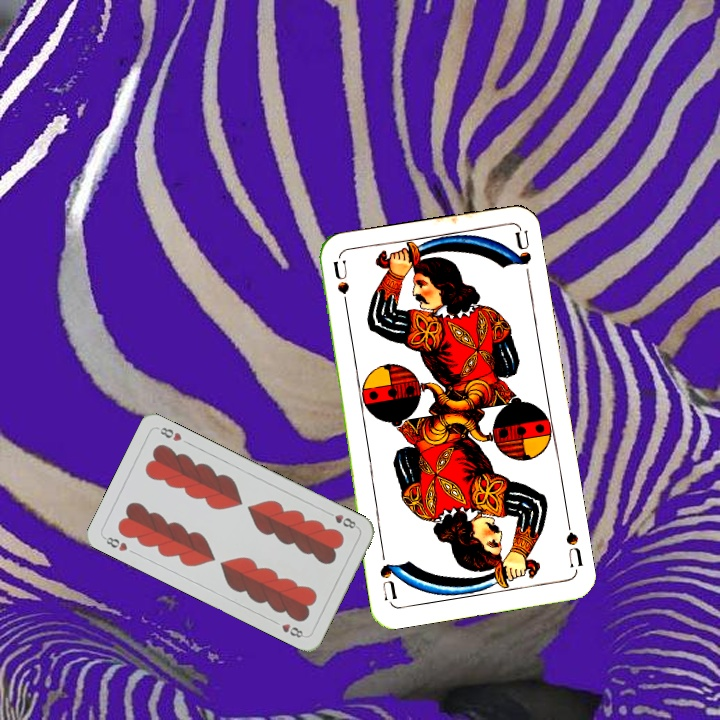H8: (322, 507, 360, 531), (100, 532, 130, 554)
SU: (328, 257, 352, 317), (562, 514, 586, 570)
